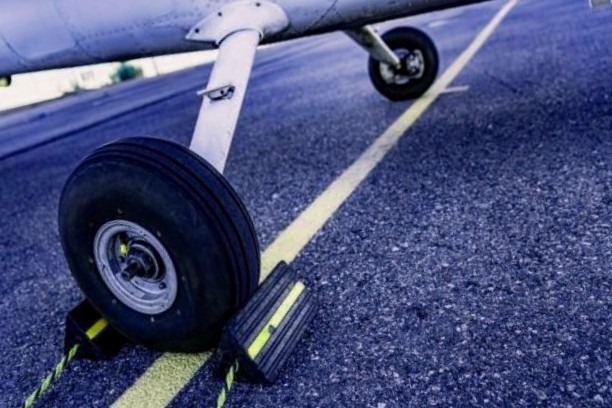chock: (187, 250, 339, 398), (49, 282, 148, 371)
wheel: (39, 113, 282, 378), (360, 15, 450, 108)
